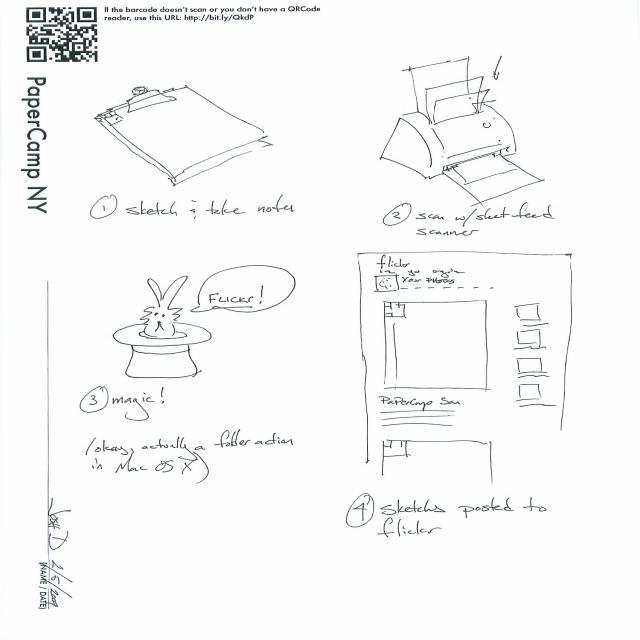qrcode: (28, 8, 99, 63)
